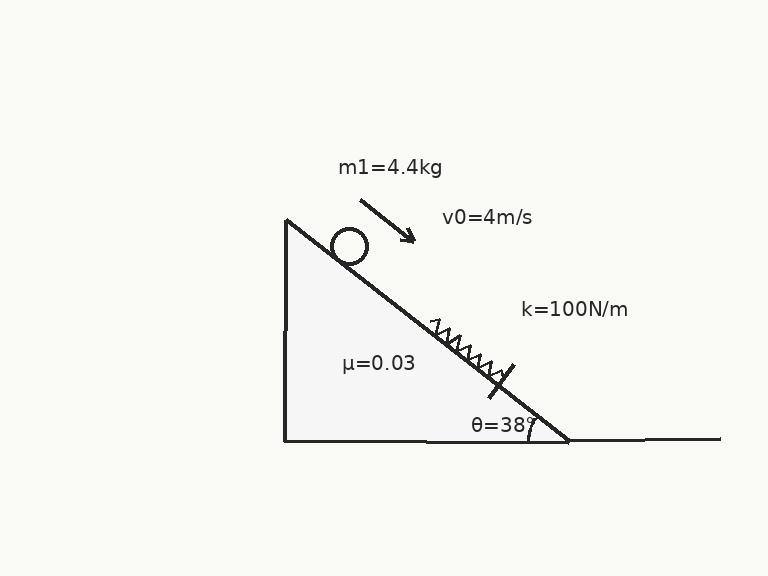ball: (328, 225, 370, 267)
ramp: (283, 218, 570, 443)
spring: (427, 318, 505, 381)
